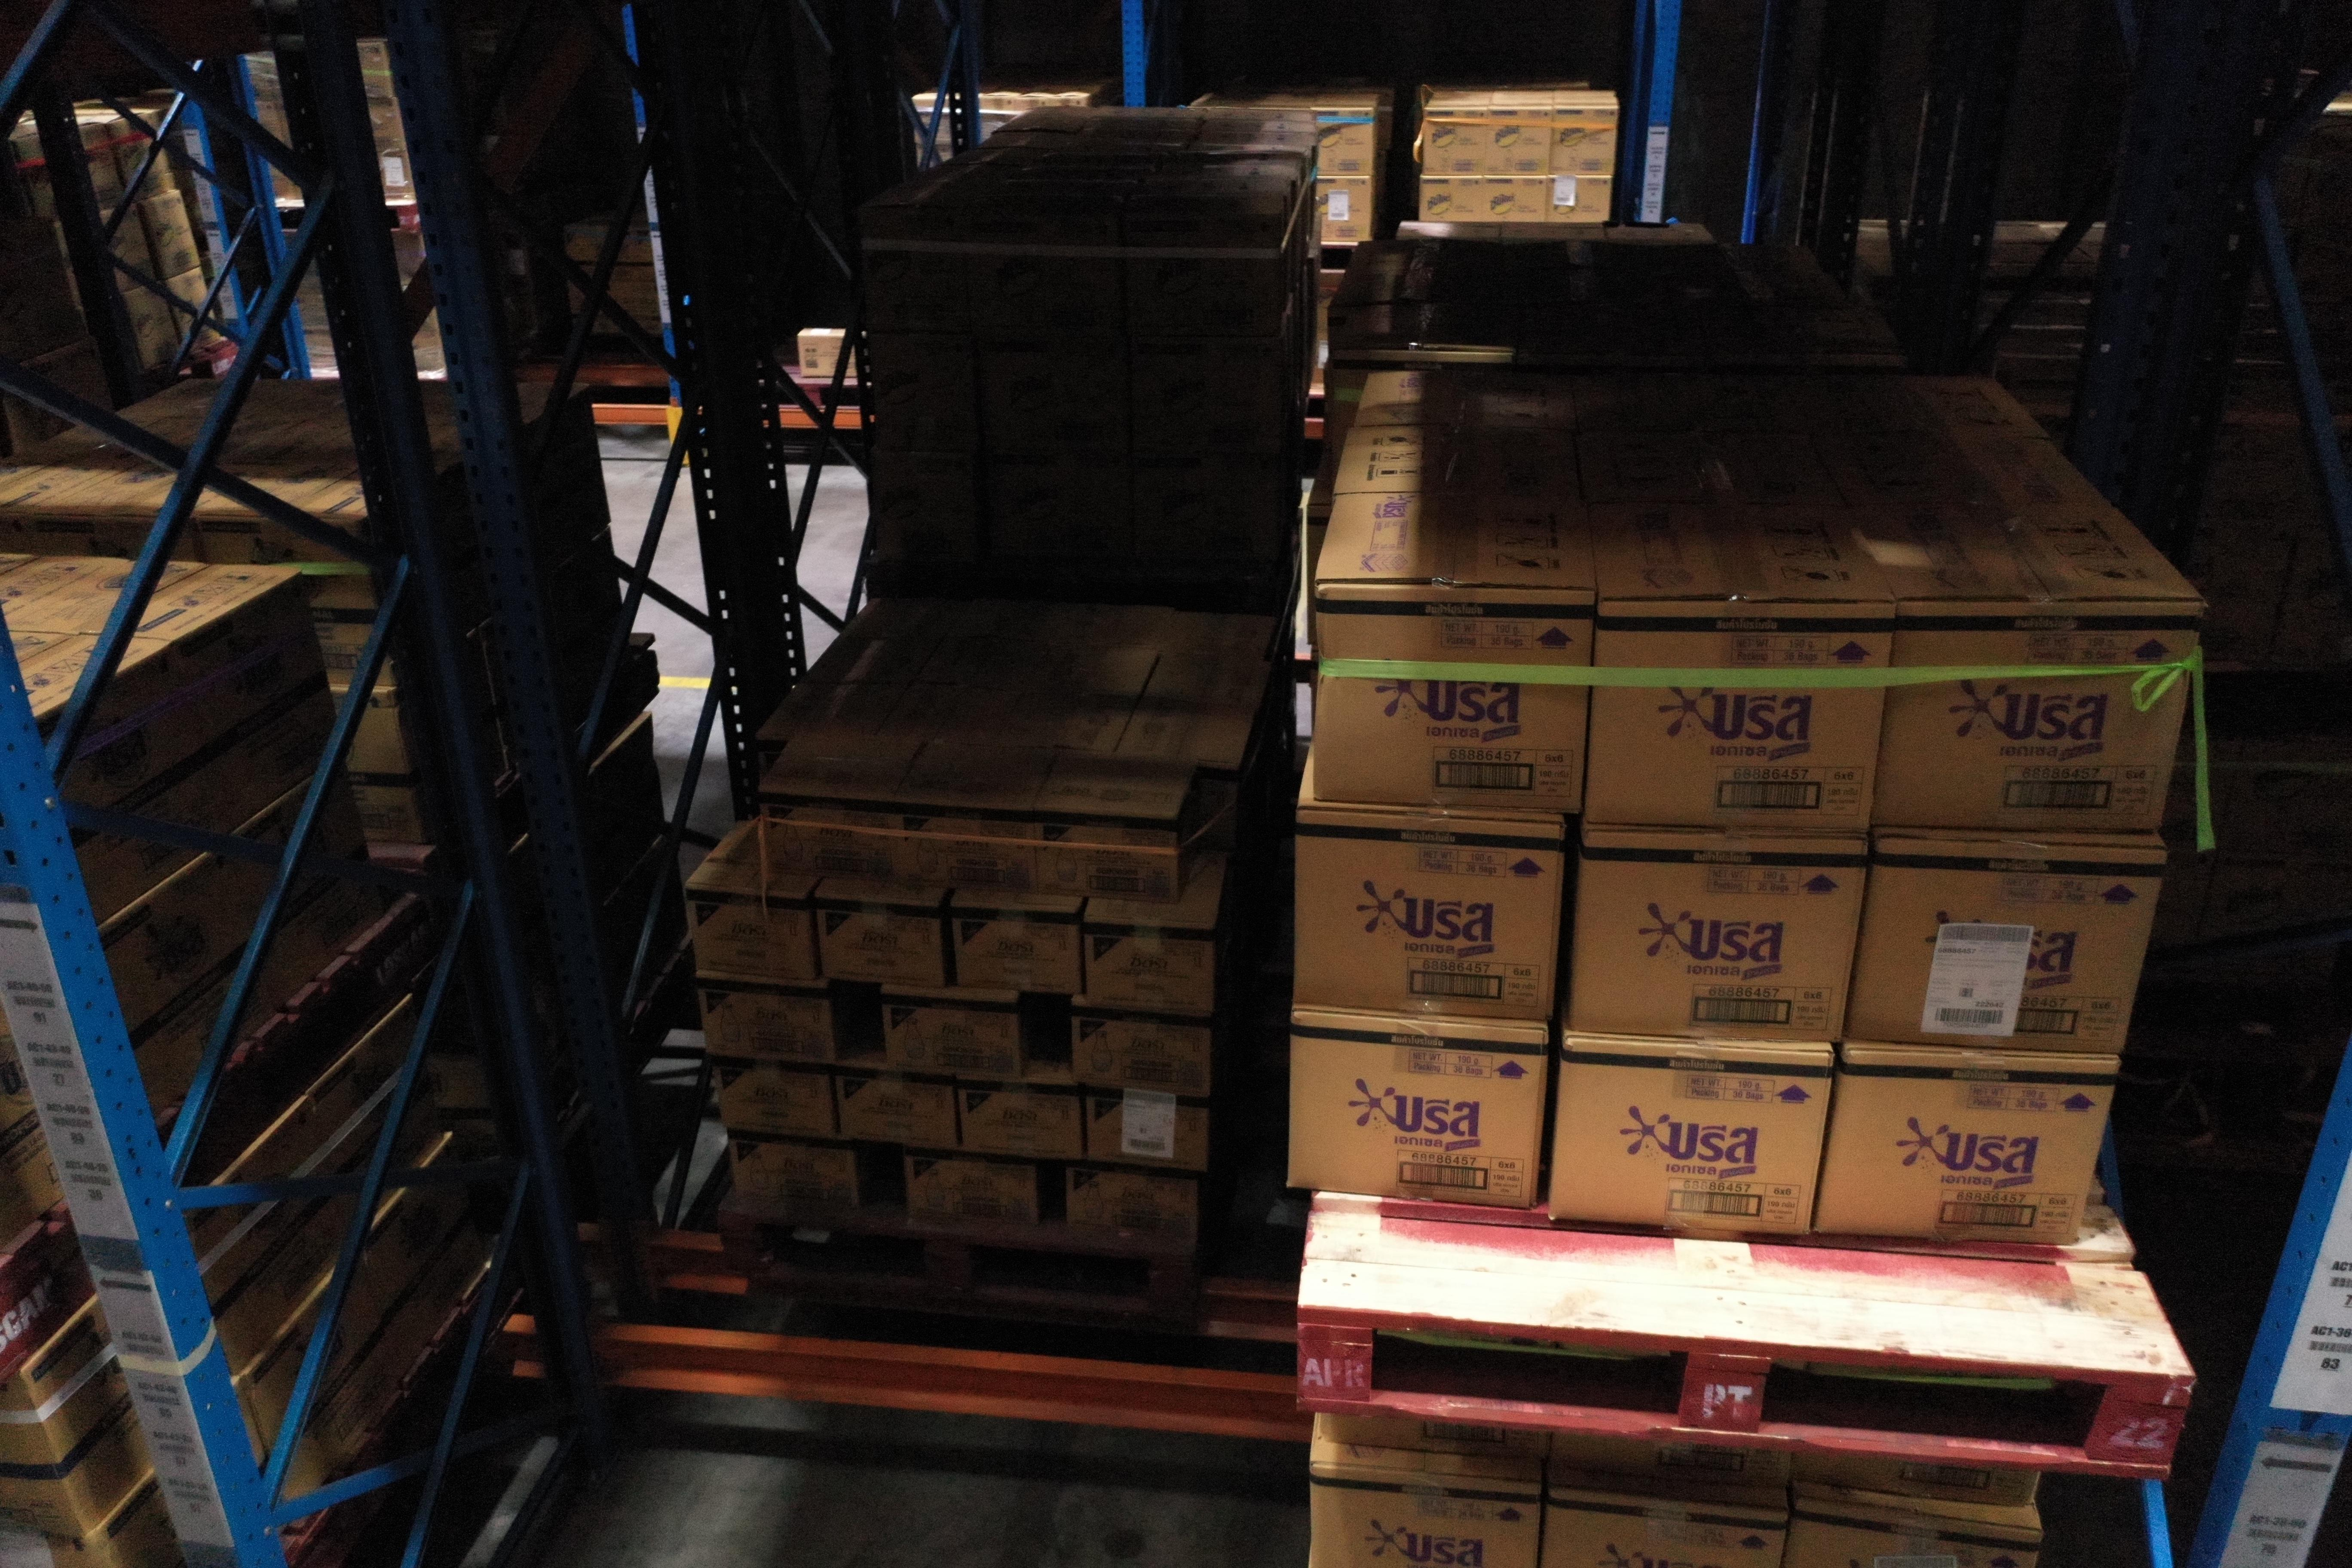-: (1876, 597, 2208, 838), (1580, 597, 1899, 838), (1841, 833, 2165, 1053), (1312, 577, 1599, 821), (1568, 826, 1872, 1048), (1293, 801, 1564, 1022), (1815, 1055, 2123, 1248), (1549, 1038, 1836, 1241), (1281, 1008, 1547, 1213), (1309, 1463, 1549, 1568), (1535, 1489, 1792, 1568), (1781, 1493, 2047, 1568), (1792, 1456, 2040, 1507), (1556, 1435, 1795, 1486), (1314, 1414, 1556, 1463)
2: (1123, 213, 1281, 336), (971, 212, 1125, 334), (1130, 336, 1284, 458), (976, 334, 1134, 448), (982, 444, 1136, 560), (1130, 450, 1281, 560), (859, 203, 971, 334), (866, 448, 980, 563), (871, 332, 980, 450)
box: (891, 796, 1039, 894), (1034, 807, 1179, 905), (882, 987, 1020, 1080), (1071, 1001, 1209, 1094), (695, 973, 835, 1064), (761, 789, 894, 884), (686, 885, 817, 980), (814, 894, 943, 989), (950, 905, 1083, 996), (1085, 920, 1213, 1015), (726, 1123, 859, 1211), (1067, 1160, 1199, 1248), (1088, 1085, 1213, 1176), (905, 1146, 1038, 1228), (831, 1064, 955, 1150), (710, 1053, 836, 1136), (961, 1078, 1083, 1160)
